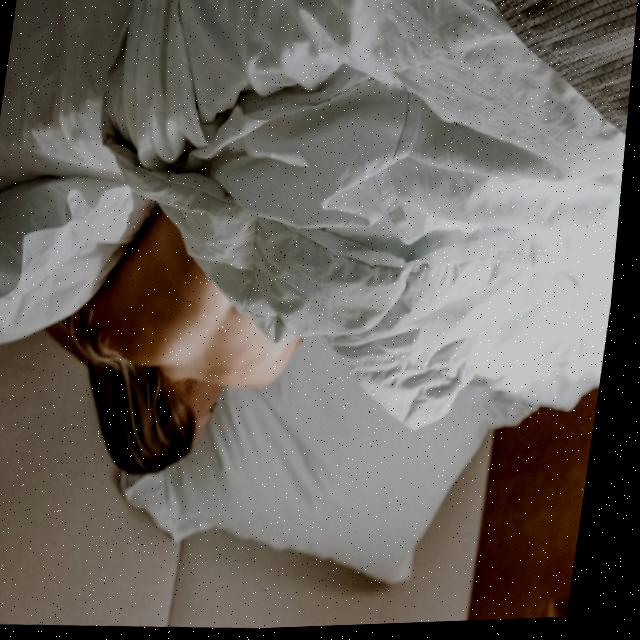sleeping-person: (9, 0, 583, 514)
